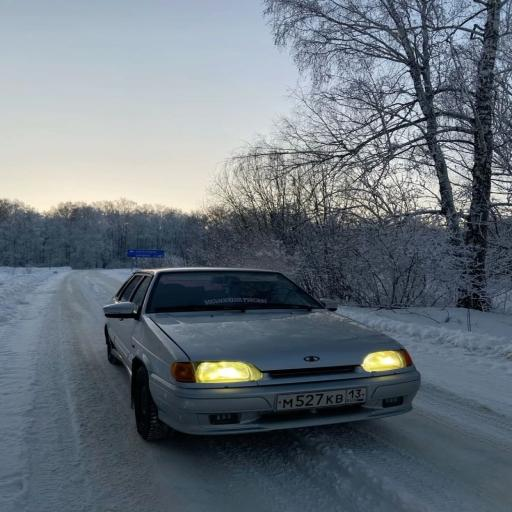bottle: (104, 268, 420, 439)
ramp: (0, 271, 511, 511)
